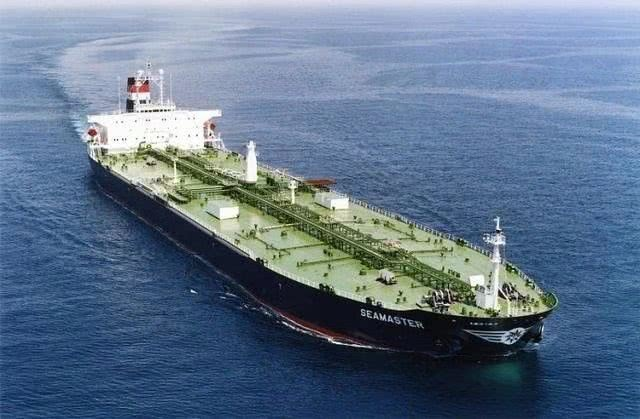Cargoship: (76, 54, 560, 360)
